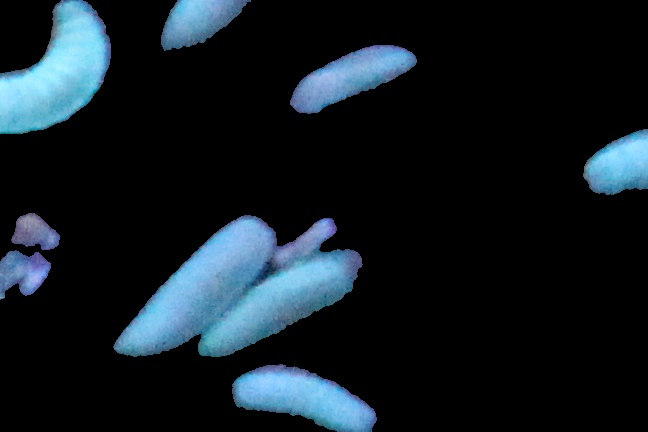larvae: (120, 219, 273, 356), (1, 1, 115, 140), (199, 258, 351, 358), (230, 364, 378, 432), (291, 48, 412, 114), (148, 1, 258, 54)
